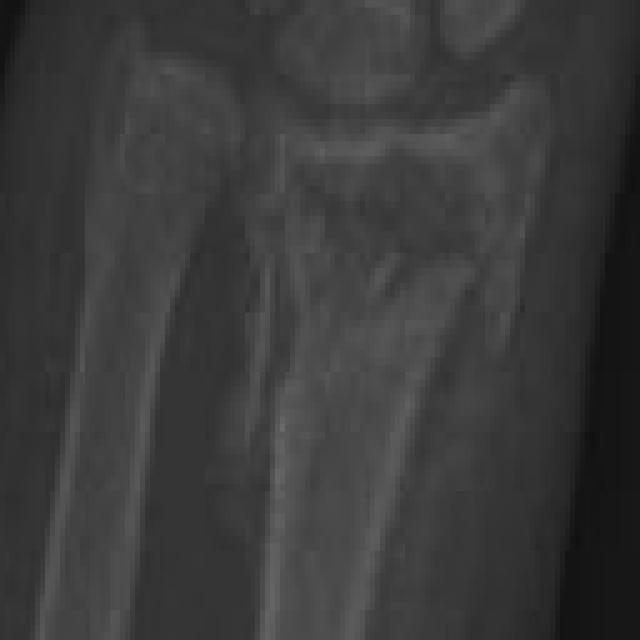fracture: (1, 4, 640, 640)
